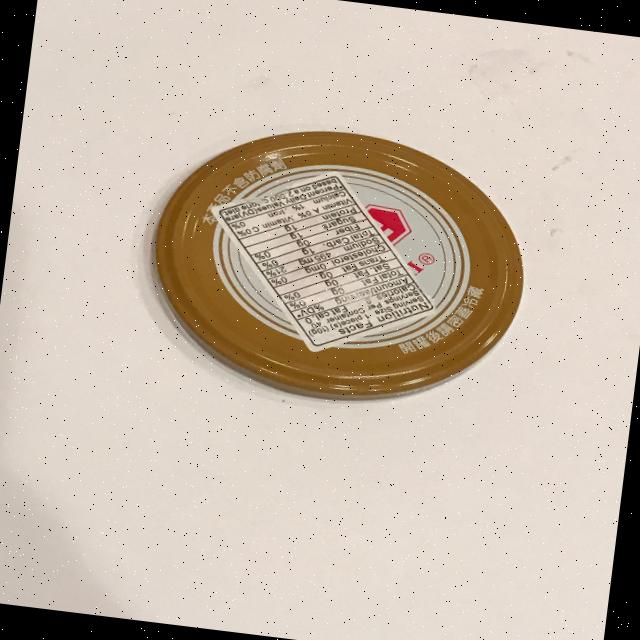metal: (135, 108, 540, 422)
